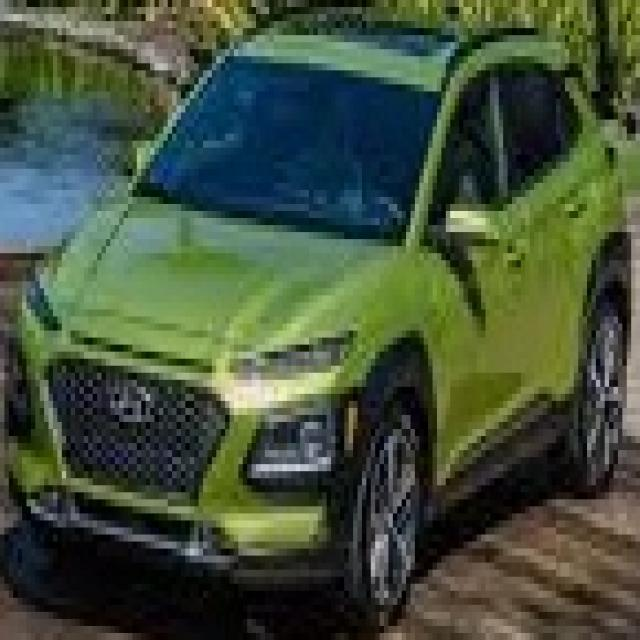green: (8, 21, 631, 633)
